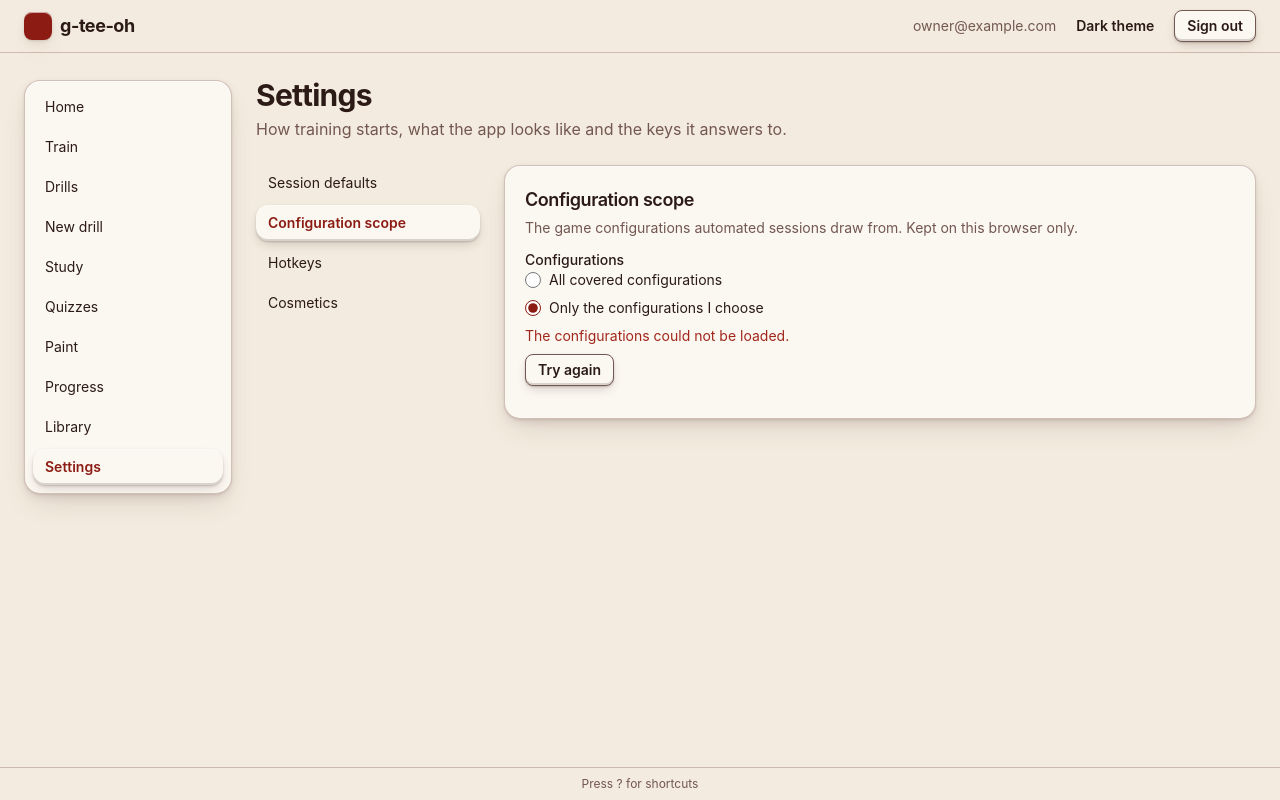
Test: R4.12 /settings session defaults › R4.12 a failed or empty configuration read says so, and Try again reloads it
Expected: the message shows "The configurations could not be loaded.", [525, 327, 789, 344]
Click the button named "Try again: the configurations" at (570, 370), box [525, 354, 614, 386]
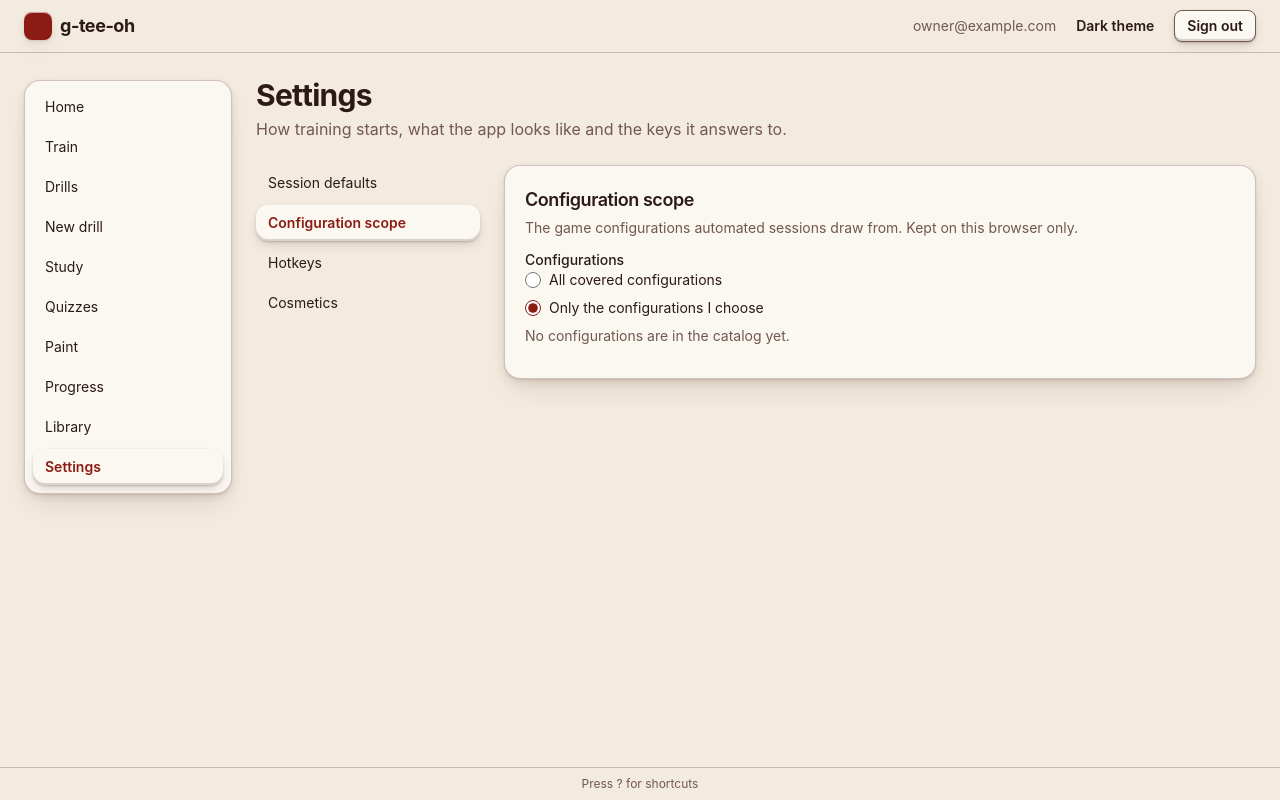
Expected: the text "No configurations are in the catalog yet." is shown, [525, 327, 790, 344]
